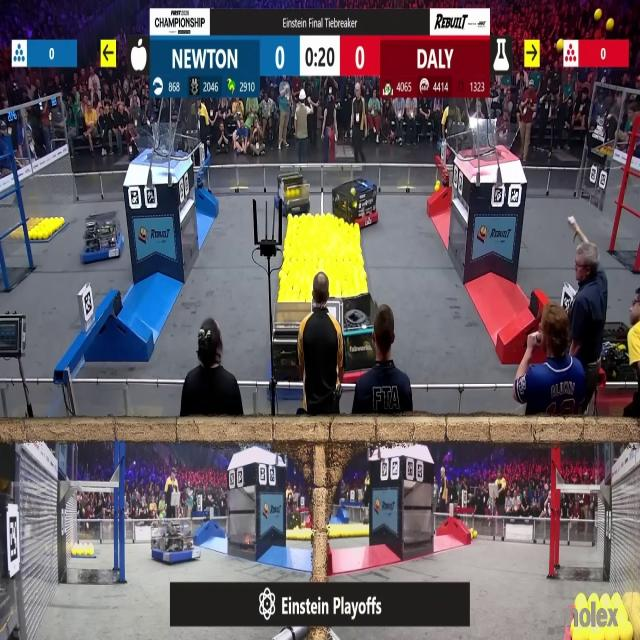ball_airborne: (606, 20, 613, 32)
ball_ground: (556, 40, 564, 50), (595, 9, 602, 20), (434, 182, 439, 192), (472, 531, 476, 538)
goal: (466, 123, 520, 159), (129, 129, 188, 161)
robot_blue: (268, 302, 304, 400), (81, 213, 123, 265), (151, 519, 198, 563), (274, 168, 310, 216)
robot_red: (597, 318, 640, 412), (339, 298, 376, 386), (332, 178, 379, 228)
